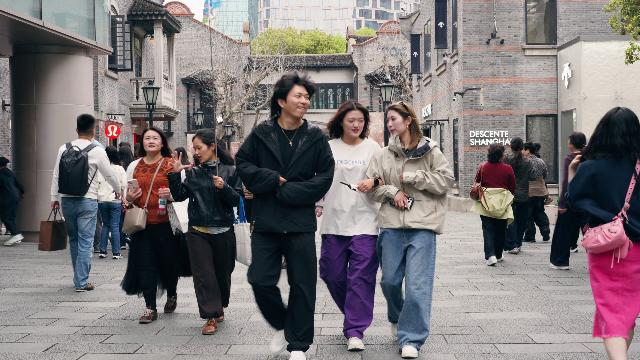person: (234, 70, 334, 360), (365, 101, 455, 360), (564, 106, 640, 360), (314, 100, 382, 351), (167, 129, 244, 335), (125, 123, 191, 328), (50, 114, 121, 292), (468, 142, 517, 266), (549, 131, 588, 271), (502, 136, 538, 254), (98, 146, 128, 259), (522, 141, 552, 243), (0, 156, 27, 246)
